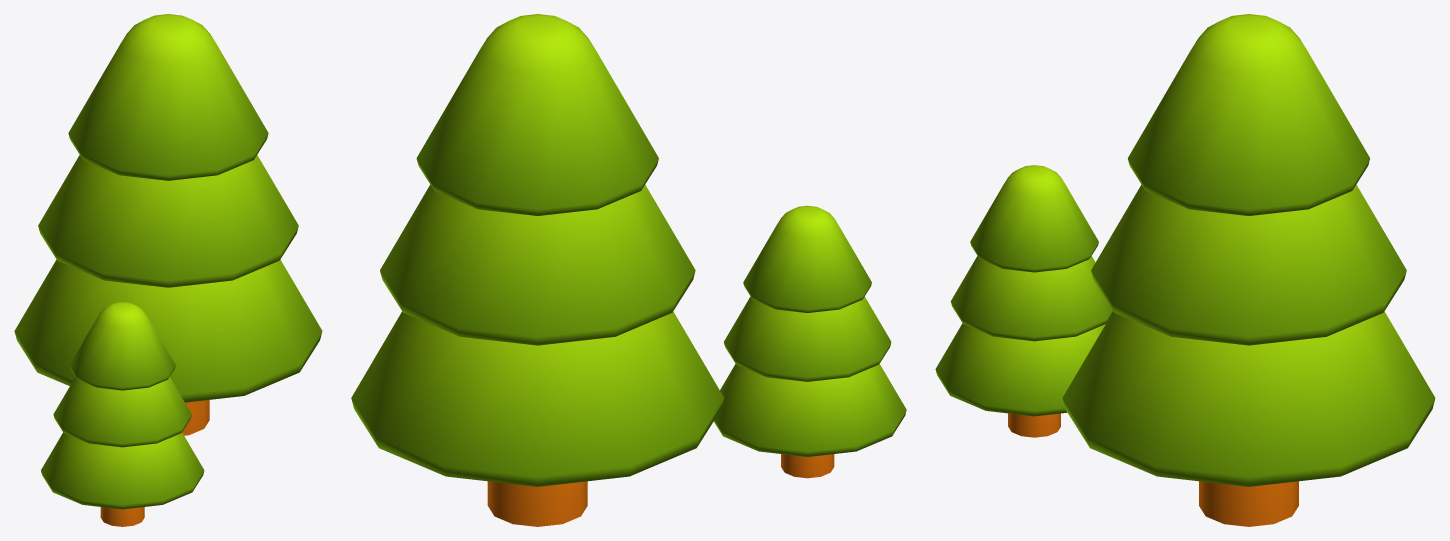
Rendered from Plant_Pine_01A.glb.
3 views of the same model, side by side, from view 1: azimuth 30°, elevation 25°; view 2: azimuth 150°, elevation 25°; view 3: azimuth 270°, elevation 25° (orthographic). The views are drawn at different scales.
Parts seen in each view (by area): view 1: Plant_Pine_01A; view 2: Plant_Pine_01A; view 3: Plant_Pine_01A.
Boxes of the visible parts, x1=… form: Plant_Pine_01A: x1=14, y1=14, x2=322, y2=526; Plant_Pine_01A: x1=351, y1=14, x2=906, y2=526; Plant_Pine_01A: x1=935, y1=14, x2=1435, y2=526.
Bounding box in the file's own units: 1.71 × 1.92 × 1.81.
Materials: 1 (1 with a texture image).
